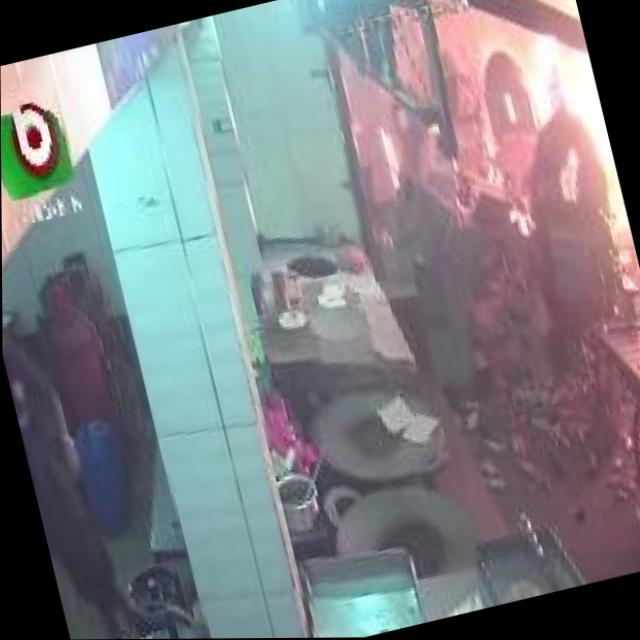fire: (490, 0, 627, 240)
